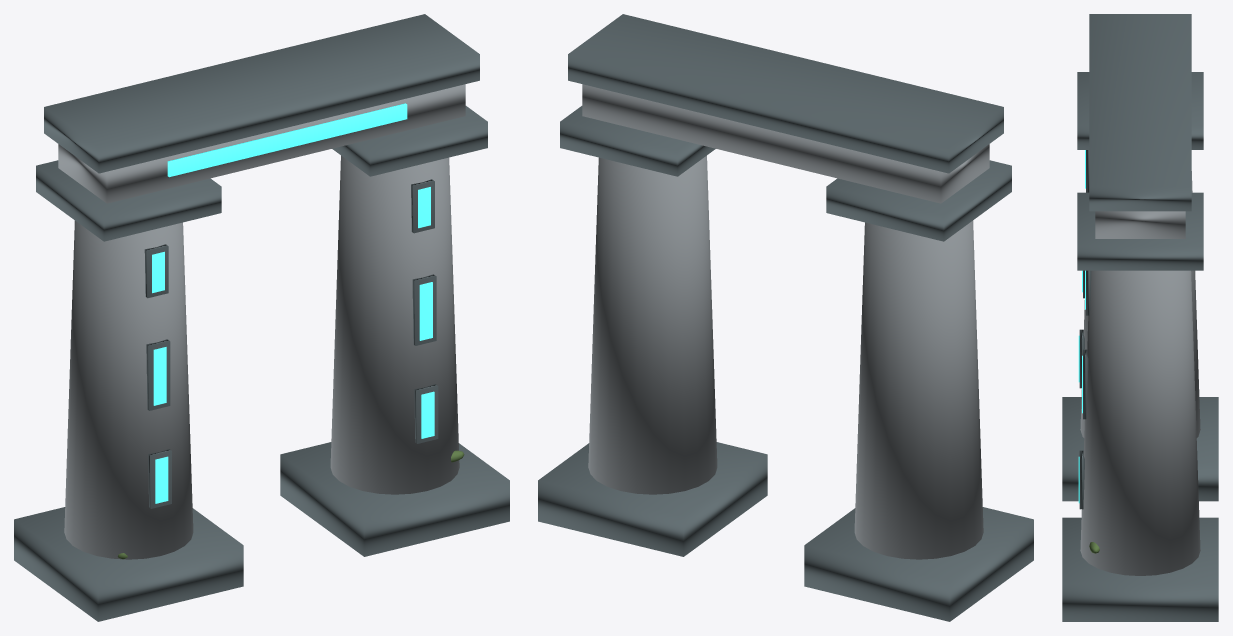
File: 3D模型 props_stone_arch.glb
3 views of the same model, side by side, from view 1: azimuth 30°, elevation 25°; view 2: azimuth 150°, elevation 25°; view 3: azimuth 270°, elevation 25° (orthographic). The views are drawn at different scales.
Parts seen in each view (by area): view 1: Cone, Cone.001, part_lintel_cap, part_plinth_0, part_plinth_1, part_lintel, part_cap_0, part_cap_1, part_lintel_rune, part_groove_0_1, part_groove_1_1, part_groove_1_0 (+5 smaller); view 2: Cone, Cone.001, part_lintel_cap, part_plinth_1, part_plinth_0, part_lintel, part_cap_0, part_cap_1; view 3: Cone.001, part_lintel_cap, part_plinth_1, part_cap_1, part_plinth_0, part_lintel, part_cap_0, Cone, part_groove_1_1, part_groove_1_0, part_groove_0_0.
Part boxes in pixels (<box>): Cone: <box>64,220,193,559</box>; Cone.001: <box>330,155,459,494</box>; part_lintel_cap: <box>44,14,479,173</box>; part_plinth_0: <box>14,507,243,621</box>; part_plinth_1: <box>280,442,509,556</box>; part_lintel: <box>58,84,465,203</box>; part_cap_0: <box>36,160,221,241</box>; part_cap_1: <box>332,106,487,176</box>; part_lintel_rune: <box>167,103,407,177</box>; part_groove_0_1: <box>146,339,170,410</box>; part_groove_1_1: <box>412,274,436,345</box>; part_groove_1_0: <box>414,384,438,443</box>; Cone: <box>854,220,983,559</box>; Cone.001: <box>588,155,717,494</box>; part_lintel_cap: <box>568,14,1003,173</box>; part_plinth_1: <box>538,442,767,556</box>; part_plinth_0: <box>804,507,1033,621</box>; part_lintel: <box>582,84,989,203</box>; part_cap_0: <box>826,160,1011,241</box>; part_cap_1: <box>560,106,715,176</box>; Cone.001: <box>1080,270,1200,575</box>; part_lintel_cap: <box>1089,14,1191,211</box>; part_plinth_1: <box>1062,517,1218,621</box>; part_cap_1: <box>1077,192,1203,270</box>; part_plinth_0: <box>1062,397,1218,501</box>; part_lintel: <box>1095,211,1185,238</box>; part_cap_0: <box>1077,72,1203,149</box>; Cone: <box>1080,171,1200,437</box>; part_groove_1_1: <box>1083,349,1088,419</box>; part_groove_1_0: <box>1079,450,1084,509</box>; part_groove_0_0: <box>1079,329,1084,388</box>.
Size of the model in its own units: 2.94 by 3.14 by 1.04.
